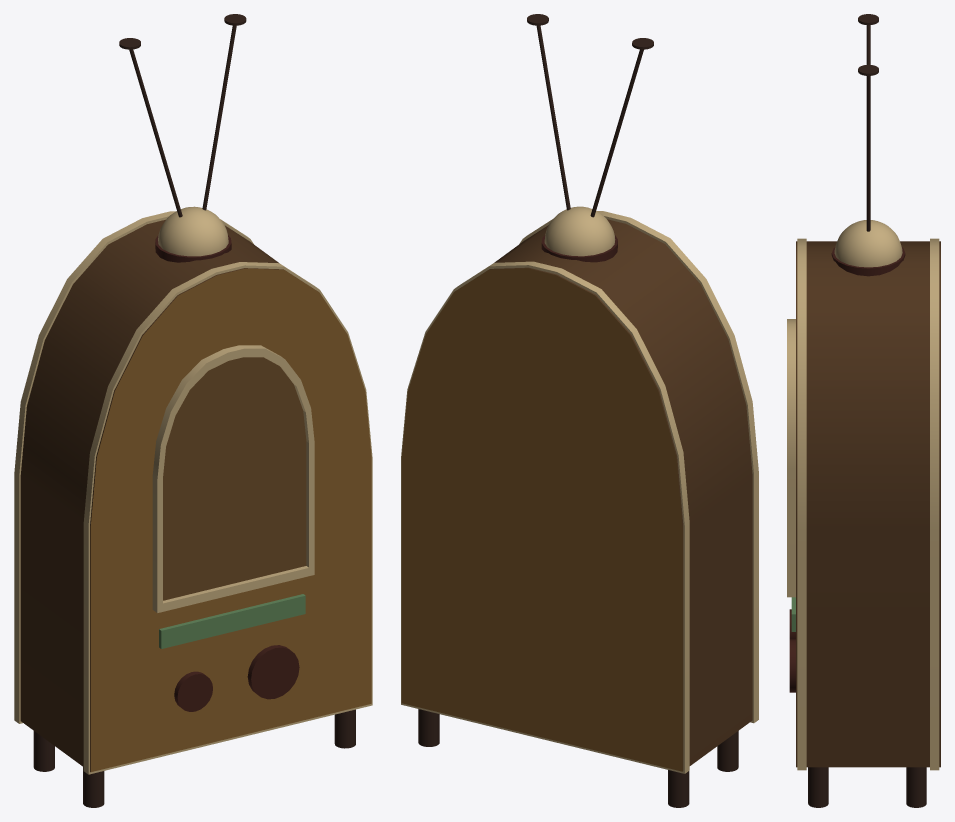
File: radio.obj
The picture shows the model from 3 angles, left to right: view 1: azimuth 30°, elevation 25°; view 2: azimuth 150°, elevation 25°; view 3: azimuth 270°, elevation 25°; orthographic projection. The views are drawn at different scales.
Parts seen in each view (by area): view 1: radio:pCylinder5; view 2: radio:pCylinder5; view 3: radio:pCylinder5.
Boxes of the visible parts, box(x1,y1,x2,y2) form: radio:pCylinder5: box(14, 14, 372, 807); radio:pCylinder5: box(401, 14, 758, 807); radio:pCylinder5: box(787, 14, 940, 807).
Bounding box in the file's own units: 0.8164 × 2 × 0.4006.
